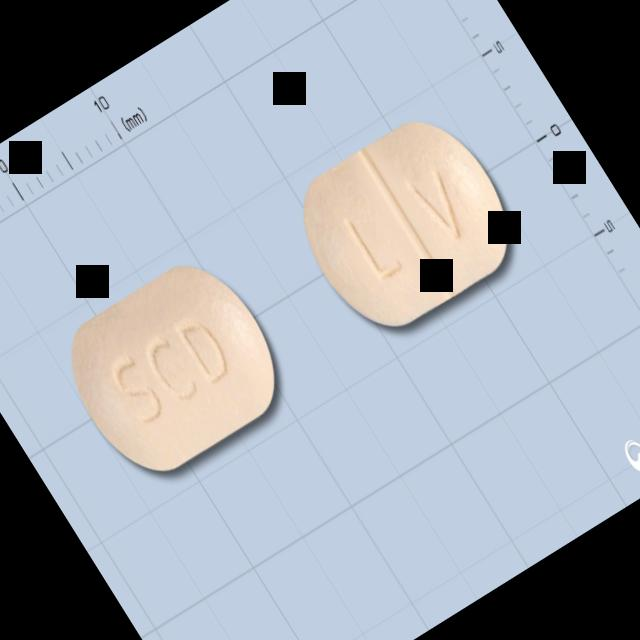Levostar -500mg: (46, 243, 302, 492), (278, 100, 533, 348)
